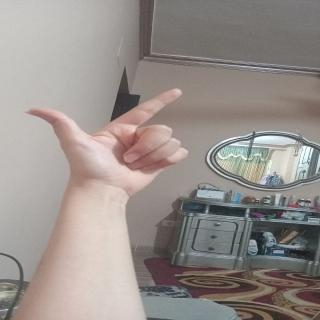LAAM: (22, 75, 209, 187)
